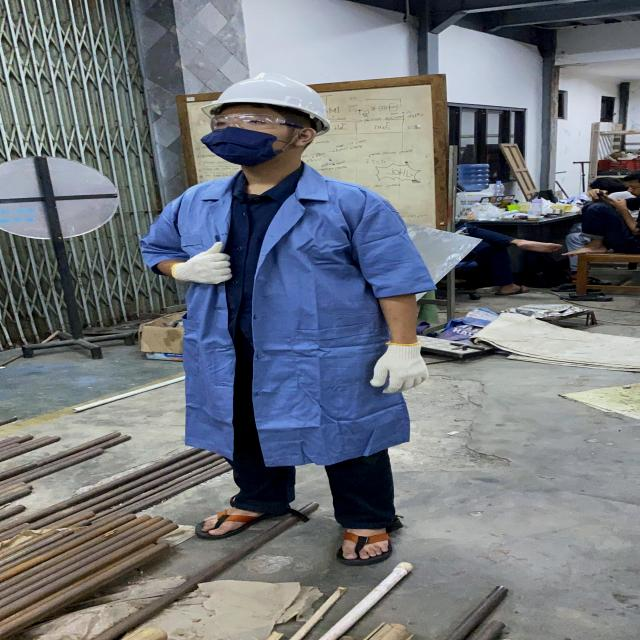face_mask: (197, 108, 293, 159)
glasses: (205, 110, 311, 132)
hand_glove: (364, 339, 434, 395), (162, 238, 240, 288)
head_helmet: (198, 70, 334, 120)
person: (152, 74, 431, 549)
